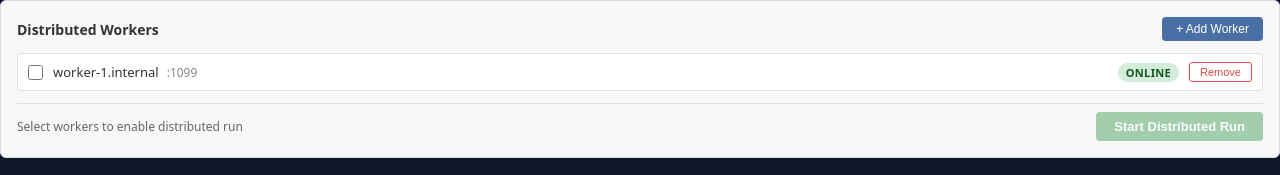
Test case: DistributedConfig — worker selection › updates selection count when worker is checked
This screenshot has width=1280, height=175.
expect the text "Select workers to enable distributed run" is shown: met, box [17,118,243,135]
What coordinates should you click on to do the following:
click the checkbox named "Select worker"
I would click on:
 (36, 72)
Its box is [28,64,43,80].
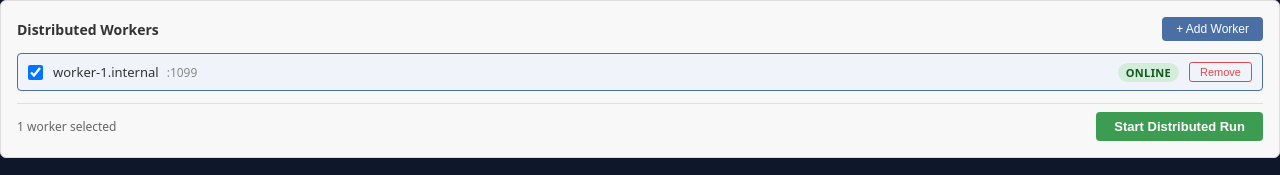
expect the text "1 worker selected" is shown: met, box [17,118,116,135]
